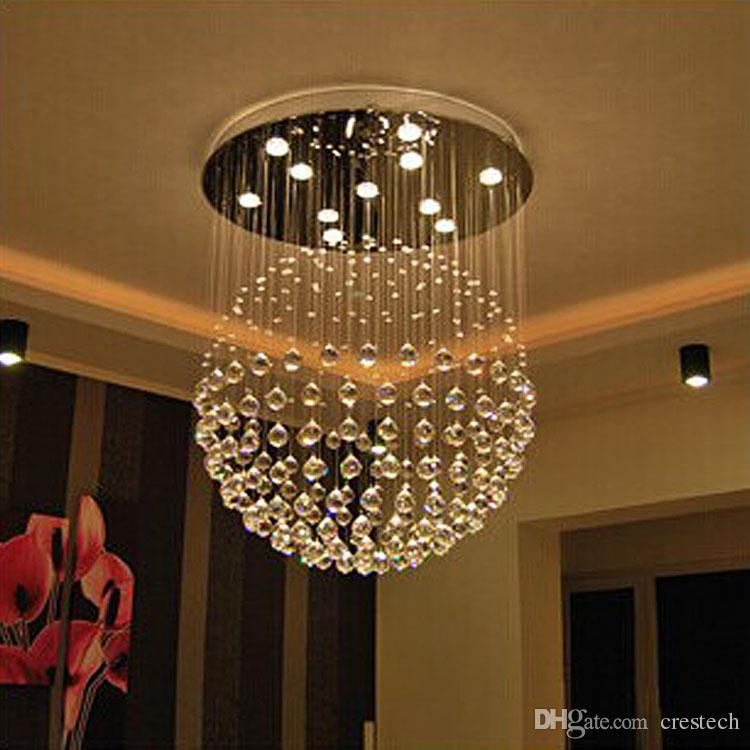chandelier: (186, 81, 555, 588)
